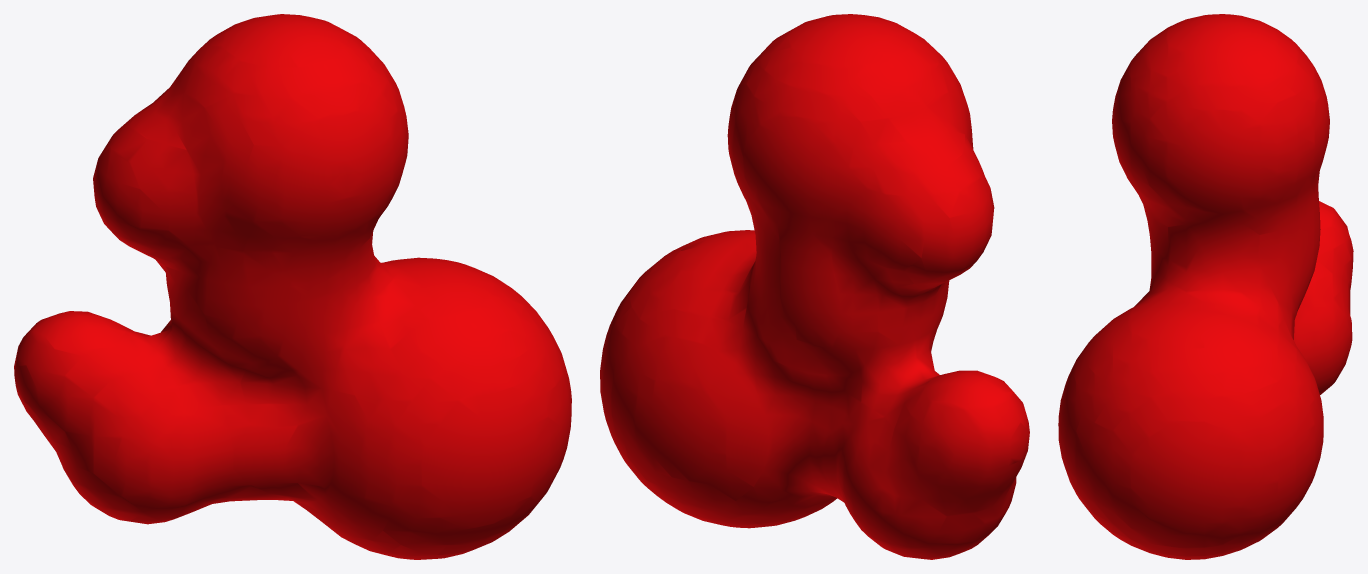
File: blob1.glb
The picture shows the model from 3 angles, left to right: view 1: azimuth 30°, elevation 25°; view 2: azimuth 150°, elevation 25°; view 3: azimuth 270°, elevation 25°; orthographic projection. The views are drawn at different scales.
Parts seen in each view (by area): view 1: Mball.007; view 2: Mball.007; view 3: Mball.007.
Part boxes in pixels (x1,y1,x2,y2): Mball.007: [14, 14, 571, 559]; Mball.007: [600, 14, 1029, 559]; Mball.007: [1058, 14, 1353, 559].
Size of the model in its own units: 11.41 by 12.48 by 7.07.
